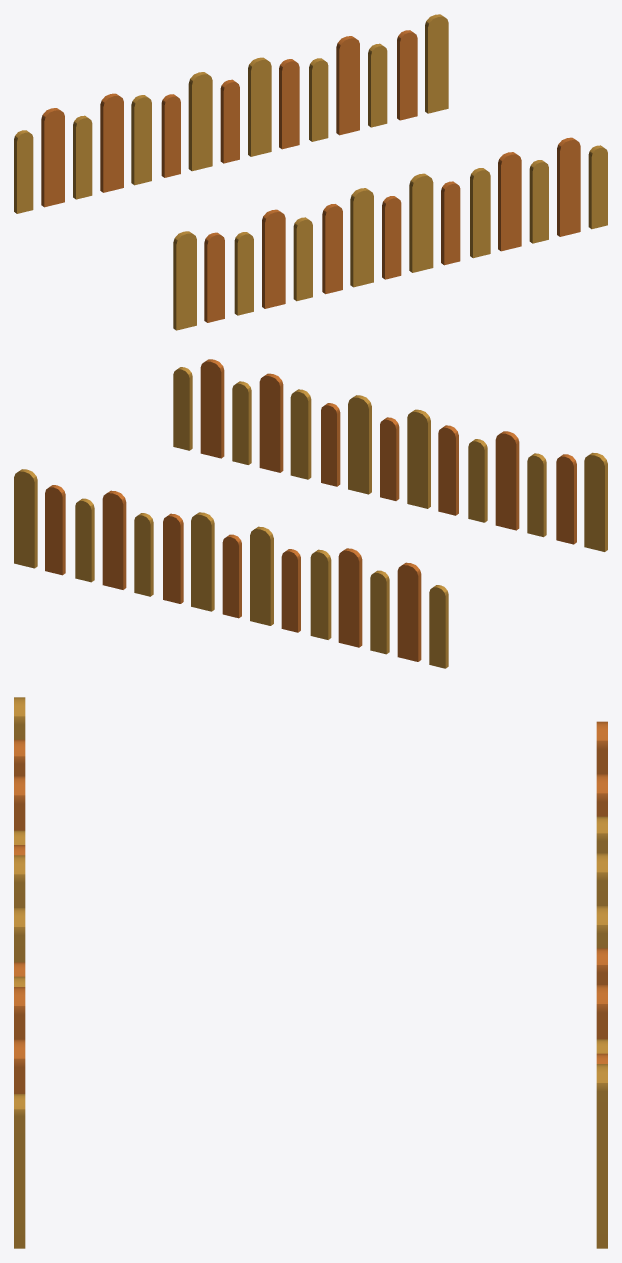
The model's file is BG_Decoration.fbx.
3 views of the same model, one above another, from view 1: azimuth 30°, elevation 25°; view 2: azimuth 150°, elevation 25°; view 3: azimuth 270°, elevation 25° (orthographic). The views are drawn at different scales.
Parts seen in each view (by area): view 1: BG_Decoration; view 2: BG_Decoration; view 3: BG_Decoration.
Boxes of the visible parts, left/top/right/bottom form: BG_Decoration: left=14, top=14, right=607, bottom=330; BG_Decoration: left=14, top=359, right=607, bottom=668; BG_Decoration: left=14, top=697, right=607, bottom=1248.
Bounding box in the file's own units: 1500 × 313 × 978.
